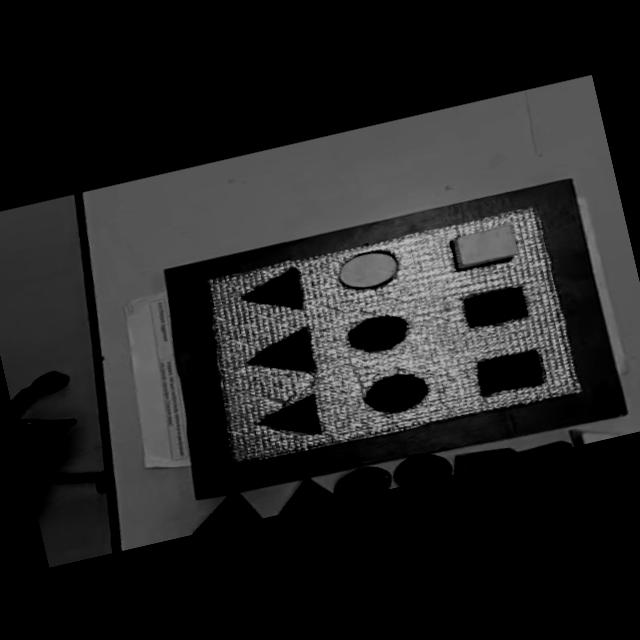bcircle: (389, 447, 454, 488)
bcube: (516, 438, 572, 458)
btriangle: (272, 473, 334, 514)
mtcircle: (360, 366, 433, 418), (342, 308, 413, 358)
mtcube: (471, 344, 548, 398), (460, 282, 531, 330)
mttriangle: (241, 326, 320, 388), (253, 390, 328, 447), (234, 264, 307, 321)
rcircle: (330, 461, 394, 502)
rcube: (449, 441, 518, 474)
rtriangle: (182, 488, 259, 535)
wb: (190, 200, 586, 470)
ycircle: (332, 244, 403, 294)
ycube: (446, 220, 522, 272)
ytriangle: (570, 416, 630, 446)
